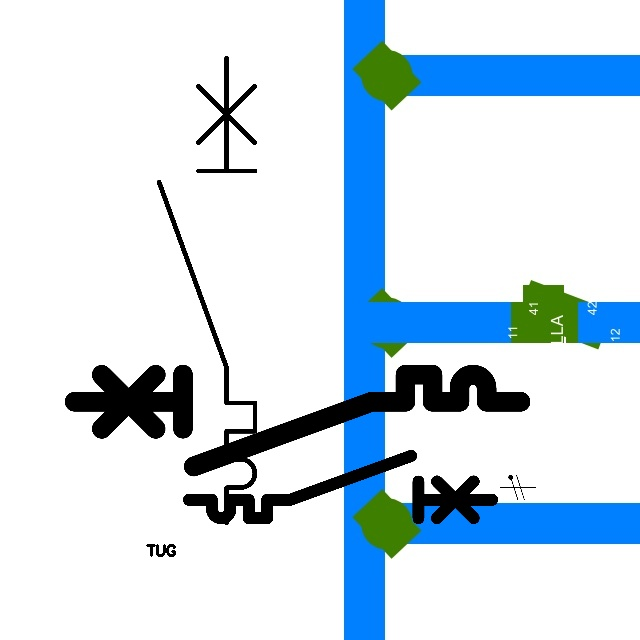interruptor_termomagnetico: (147, 46, 267, 535), (63, 363, 532, 478), (181, 448, 500, 526)
